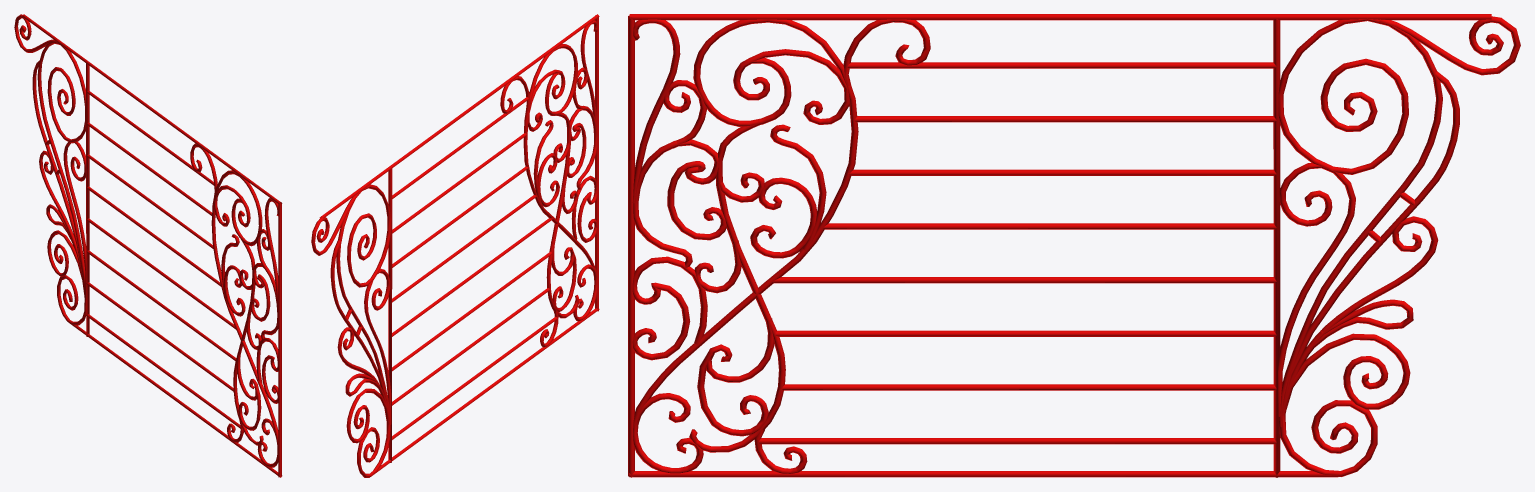
The model's file is SM_Park_Gate_01_right.FBX.
3 views of the same model, side by side, from view 1: azimuth 30°, elevation 25°; view 2: azimuth 150°, elevation 25°; view 3: azimuth 270°, elevation 25° (orthographic). The views are drawn at different scales.
Parts seen in each view (by area): view 1: SM_Park_Gate_01_right_LOD0; view 2: SM_Park_Gate_01_right_LOD0; view 3: SM_Park_Gate_01_right_LOD0.
Boxes of the visible parts, left/top/right/bottom form: SM_Park_Gate_01_right_LOD0: left=14, top=14, right=282, bottom=477; SM_Park_Gate_01_right_LOD0: left=311, top=14, right=599, bottom=477; SM_Park_Gate_01_right_LOD0: left=628, top=14, right=1520, bottom=477.
Size of what is drawn, in the model's own units: 2.37 by 300 by 172.
